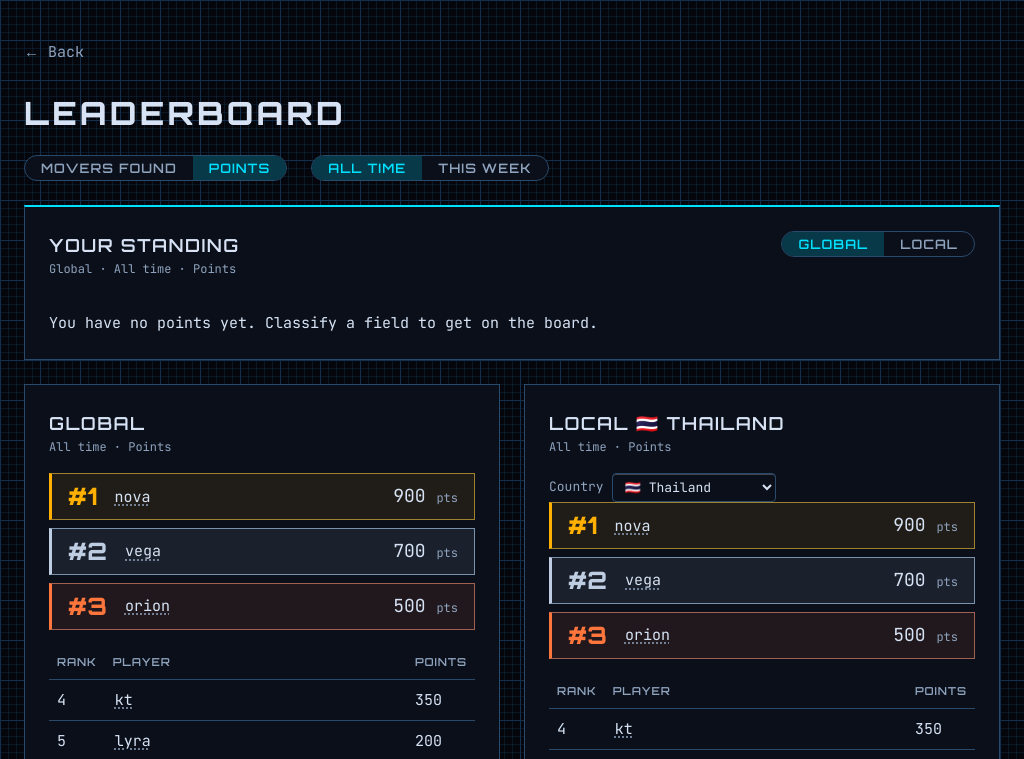
LeaderboardScreen standing card › says plainly when I am logged in with no points
Expected: the text "You have no points yet." is shown, [49, 313, 256, 333]
Click the button "This week" at (485, 168), box [422, 156, 548, 180]
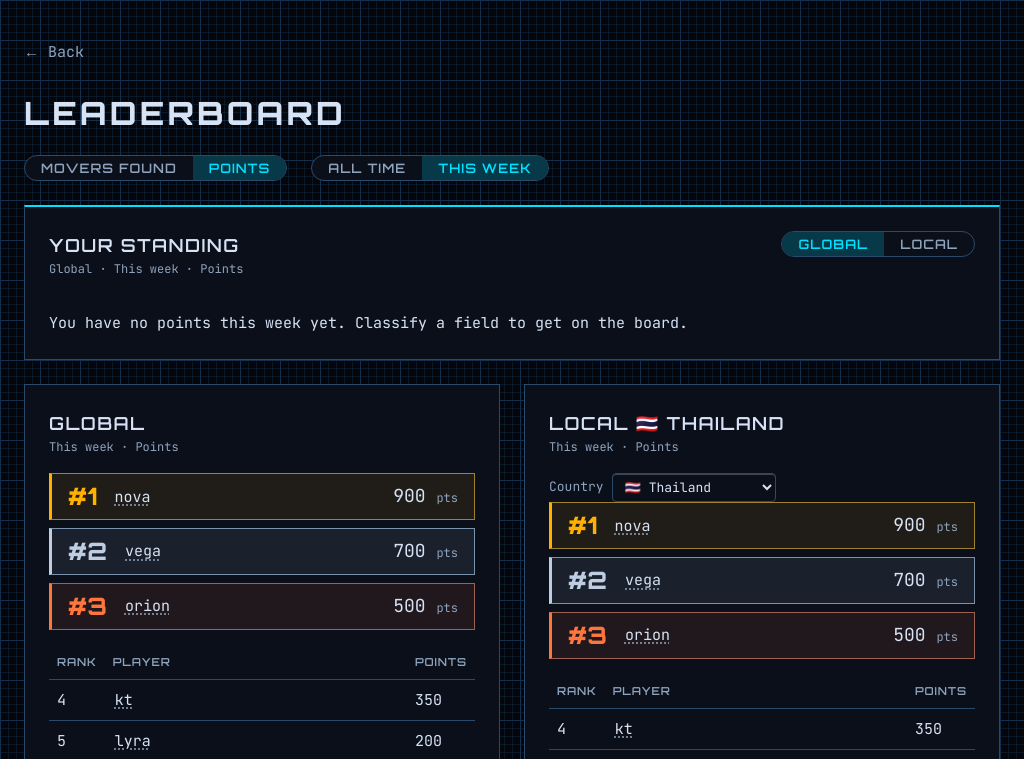
Expected: the text "You have no points this week yet." is shown, [49, 313, 346, 333]
